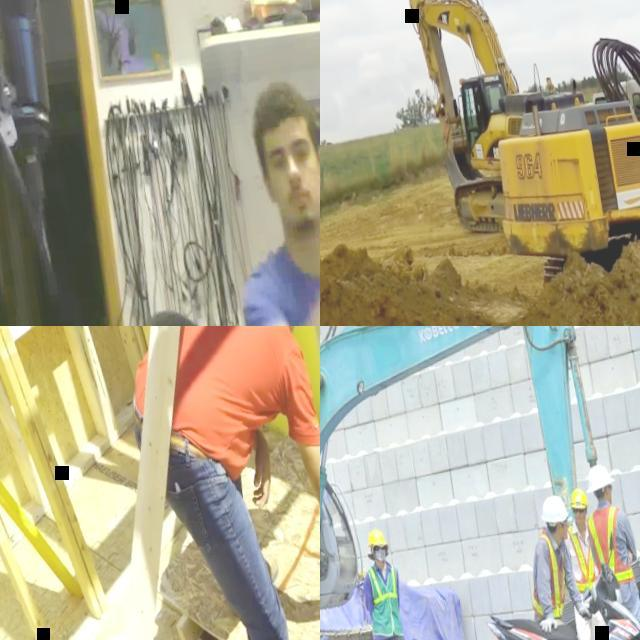helmet: (584, 461, 614, 492), (540, 492, 570, 522), (568, 486, 590, 510), (366, 527, 387, 548)
vest: (520, 525, 575, 623), (585, 500, 637, 586), (364, 563, 406, 636), (563, 516, 602, 592)
